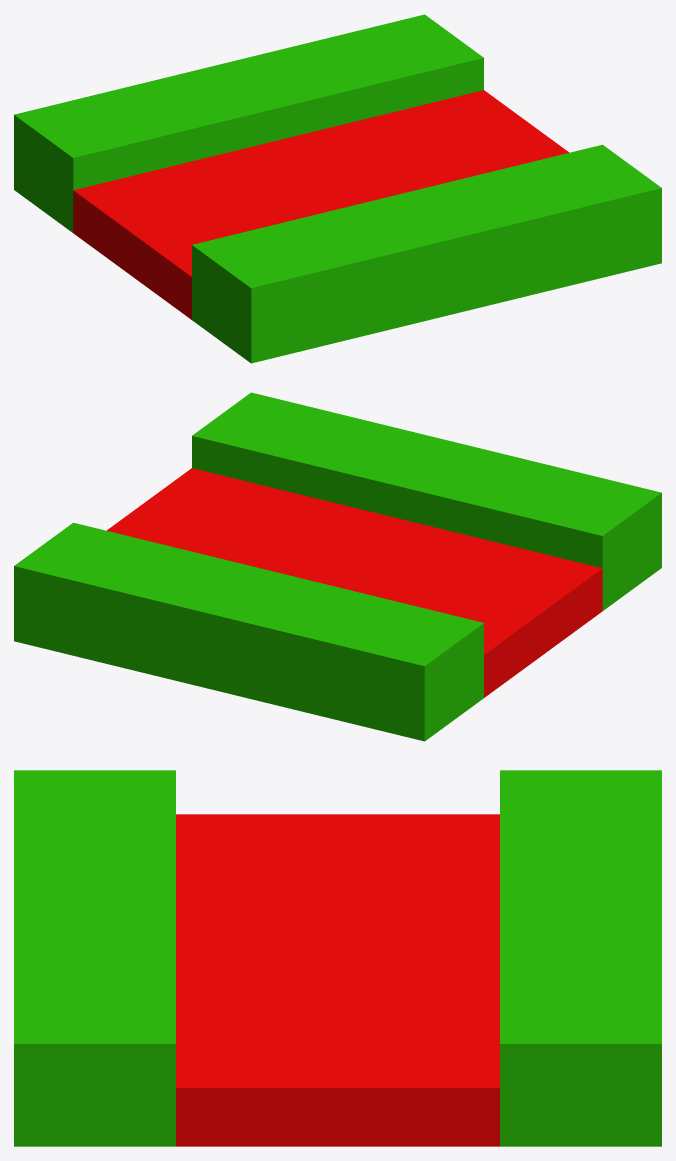
The model's file is modular_pieces_straight_1.FBX.
3 views of the same model, one above another, from view 1: azimuth 30°, elevation 25°; view 2: azimuth 150°, elevation 25°; view 3: azimuth 270°, elevation 25° (orthographic). The views are drawn at different scales.
Parts seen in each view (by area): view 1: modular_piece_straight_1; view 2: modular_piece_straight_1; view 3: modular_piece_straight_1.
Part boxes in pixels (box(x1,y1,x2,y2)): modular_piece_straight_1: box(14, 14, 661, 363); modular_piece_straight_1: box(14, 392, 661, 741); modular_piece_straight_1: box(14, 770, 661, 1146).
Bounding box in the file's own units: 100 × 17.5 × 100.
